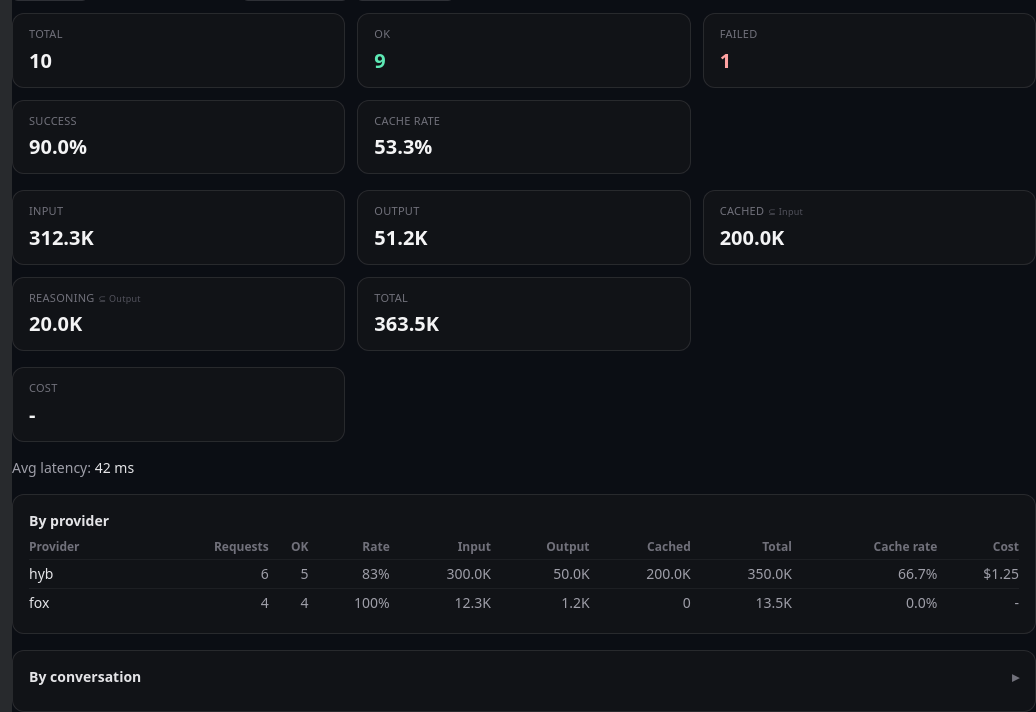
Scenario: StatsPanel › shows cache, reasoning and total columns per conversation
(page scrolled)
Expected: the text "363.5K" is shown, [374,310,439,337]
What coordinates should you click on to do the following:
click the button "By conversation ▸"
I would click on:
 (85, 676)
Its box is [29,666,1019,686].
(page scrolled)
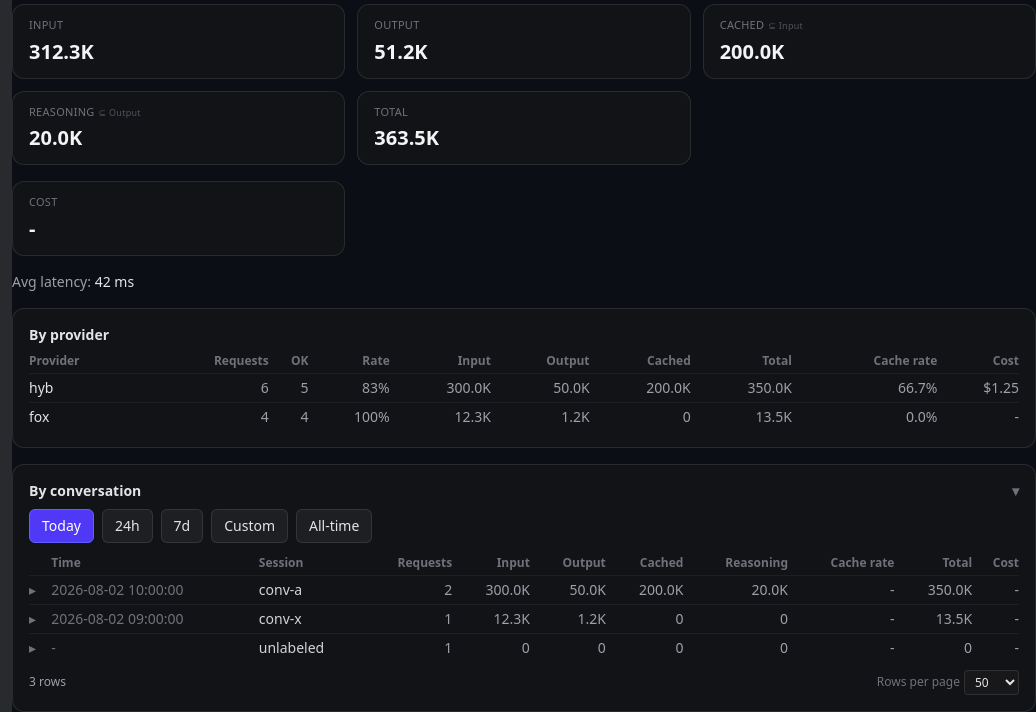
Expected: the text "200.0K" in the row of "2026-08-02 10:00:00" is shown, [639,580,684,598]
Expected: the text "20.0K" is shown, [692,575,796,604]
Expected: the text "350.0K" in the row of "2026-08-02 10:00:00" is shown, [928,580,972,598]
